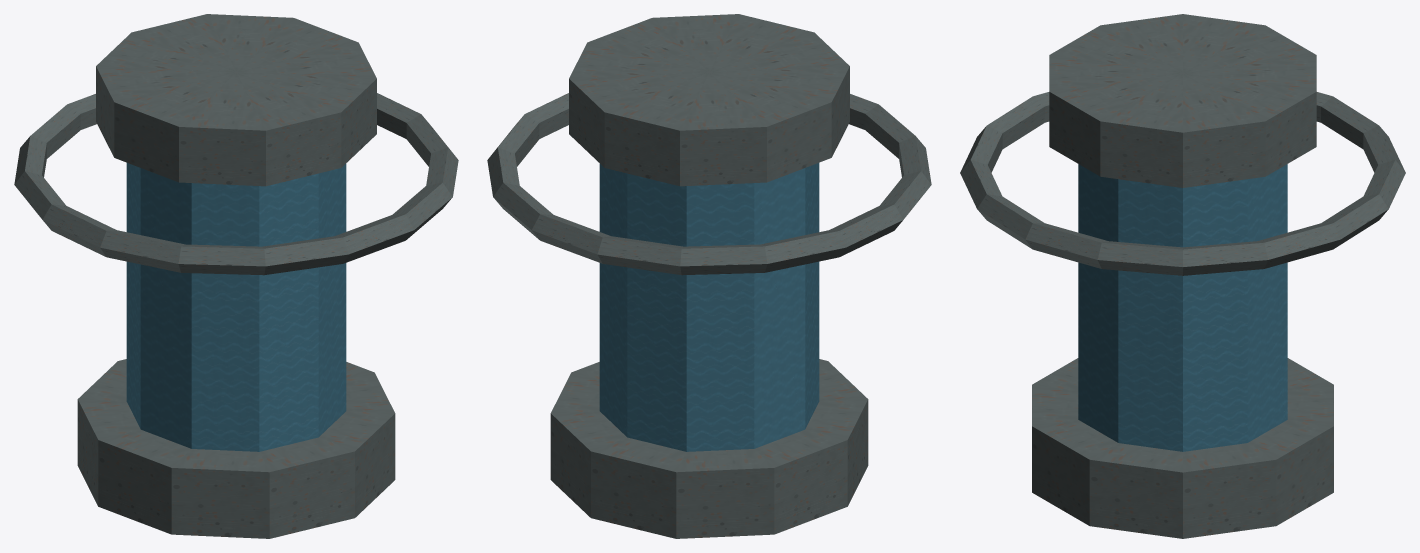
Rendered from pr-008_oil_lantern__lit.obj.
The picture shows the model from 3 angles, left to right: view 1: azimuth 30°, elevation 25°; view 2: azimuth 150°, elevation 25°; view 3: azimuth 270°, elevation 25°; orthographic projection.
Visible parts, largest first — view 1: pr-008_oil_lantern__lit; view 2: pr-008_oil_lantern__lit; view 3: pr-008_oil_lantern__lit.
Part boxes in pixels (left/top/right/bottom): pr-008_oil_lantern__lit: left=14, top=14, right=458, bottom=538; pr-008_oil_lantern__lit: left=487, top=14, right=931, bottom=538; pr-008_oil_lantern__lit: left=960, top=14, right=1405, bottom=538.
Bounding box in the file's own units: 0.73 × 0.72 × 0.73.
Materials: 2 (2 with a texture image).
